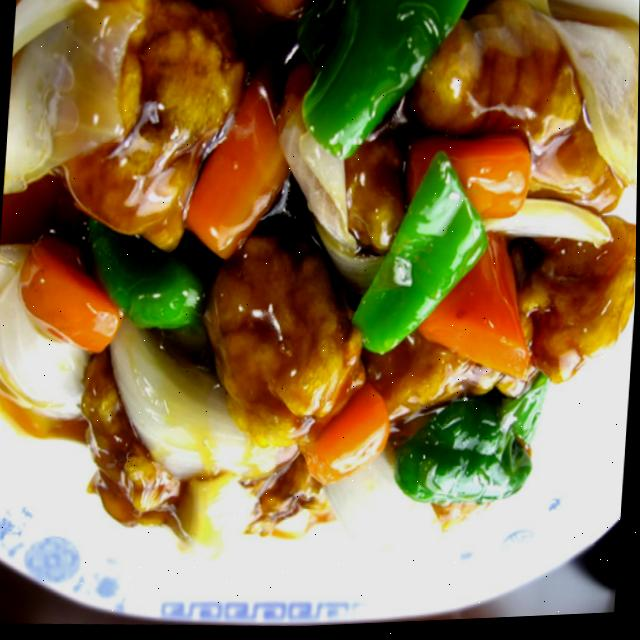猪肉菜式: (0, 54, 625, 607)
